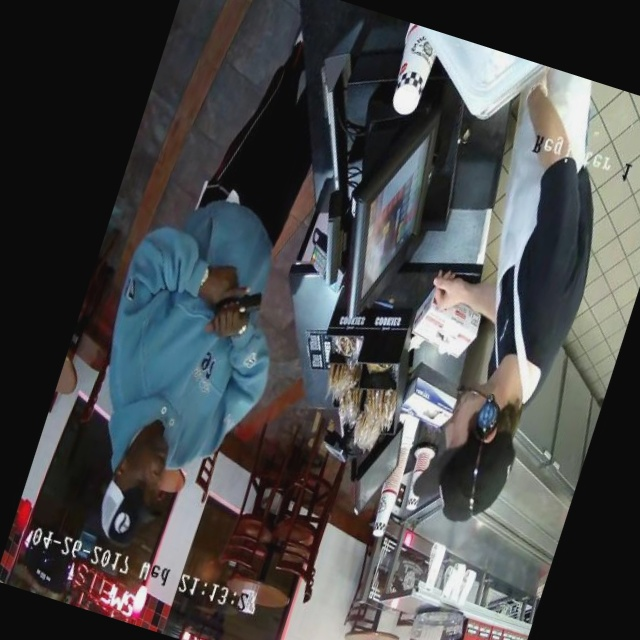gun: (197, 265, 274, 336)
